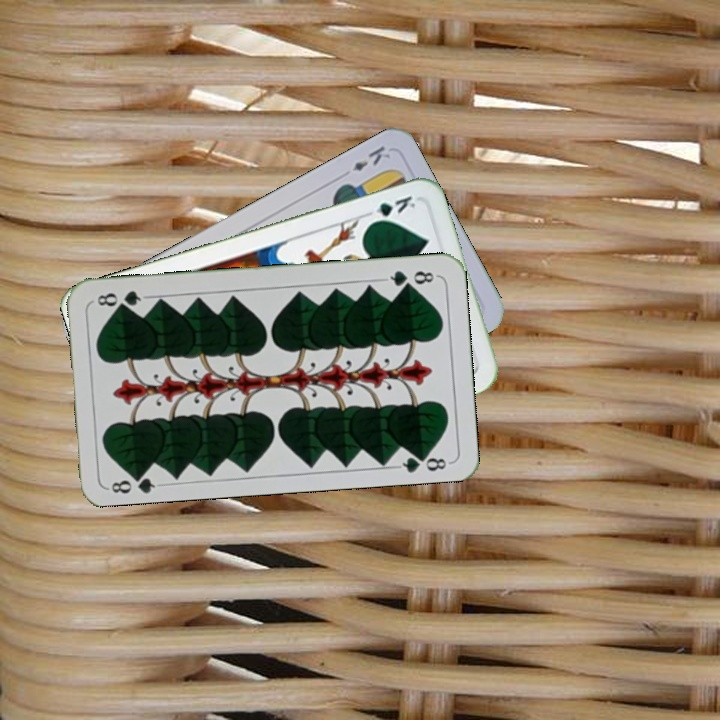EK: (349, 141, 393, 174)
G8: (104, 467, 164, 496), (380, 266, 440, 290)
GK: (364, 191, 418, 227)
